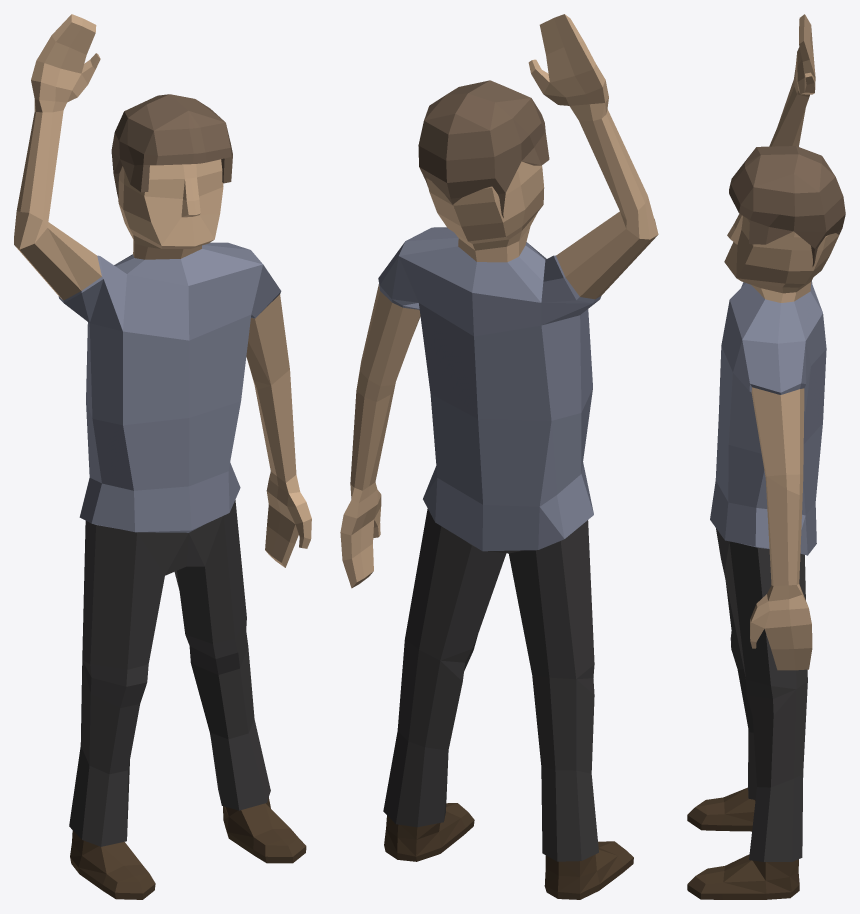
File: male_wave_hair3.glb
The picture shows the model from 3 angles, left to right: view 1: azimuth 30°, elevation 25°; view 2: azimuth 150°, elevation 25°; view 3: azimuth 270°, elevation 25°; orthographic projection. The views are drawn at different scales.
Parts seen in each view (by area): view 1: hair; view 2: hair; view 3: hair.
Boxes of the visible parts, x1=… form: hair: x1=14, y1=14, x2=311, y2=899; hair: x1=340, y1=14, x2=658, y2=899; hair: x1=687, y1=14, x2=845, y2=899.
Size of the model in its own units: 0.7273 by 2.08 by 0.3714.
